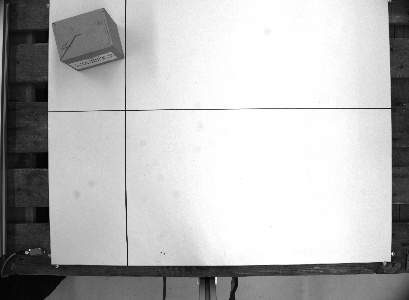b5: (49, 6, 126, 72)
